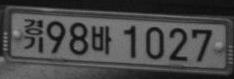0: (144, 25, 165, 59)
1: (121, 24, 141, 58)
2: (168, 26, 188, 61)
7: (190, 27, 212, 61)
8: (68, 21, 89, 56)
9: (45, 20, 66, 53)
경기_V: (23, 17, 44, 54)
바: (90, 25, 111, 55)
